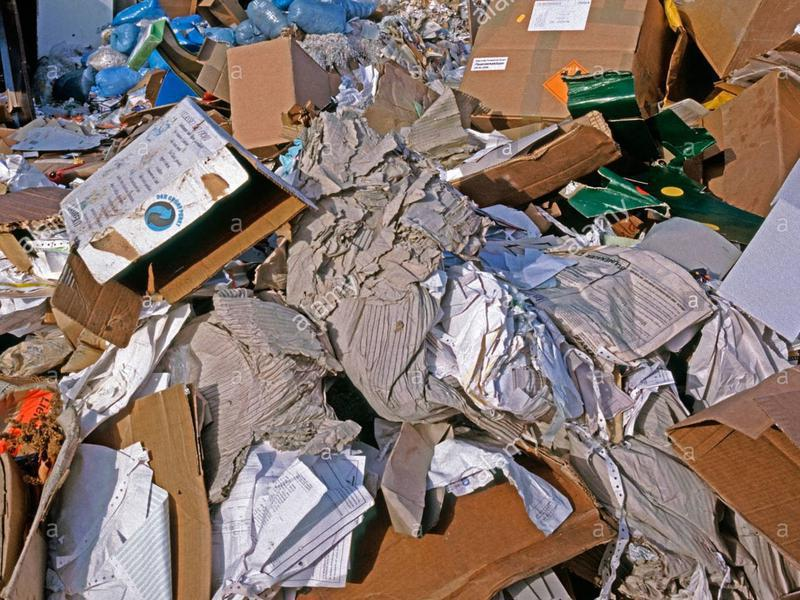cardboard: (63, 97, 320, 308), (659, 362, 800, 568), (458, 1, 677, 126), (220, 30, 346, 159)
paper: (297, 123, 488, 418), (491, 211, 720, 384), (197, 287, 363, 458), (435, 264, 587, 417), (220, 447, 373, 592), (384, 418, 572, 534), (61, 443, 190, 599), (57, 301, 198, 405)
